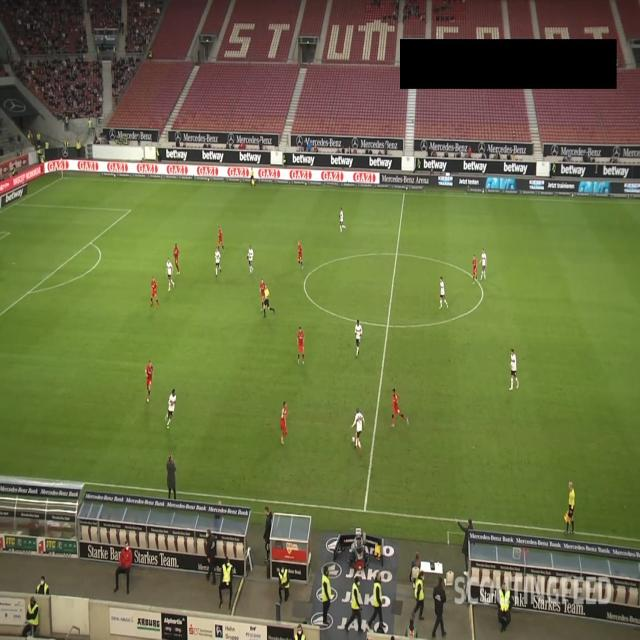ball: (351, 436, 355, 444)
